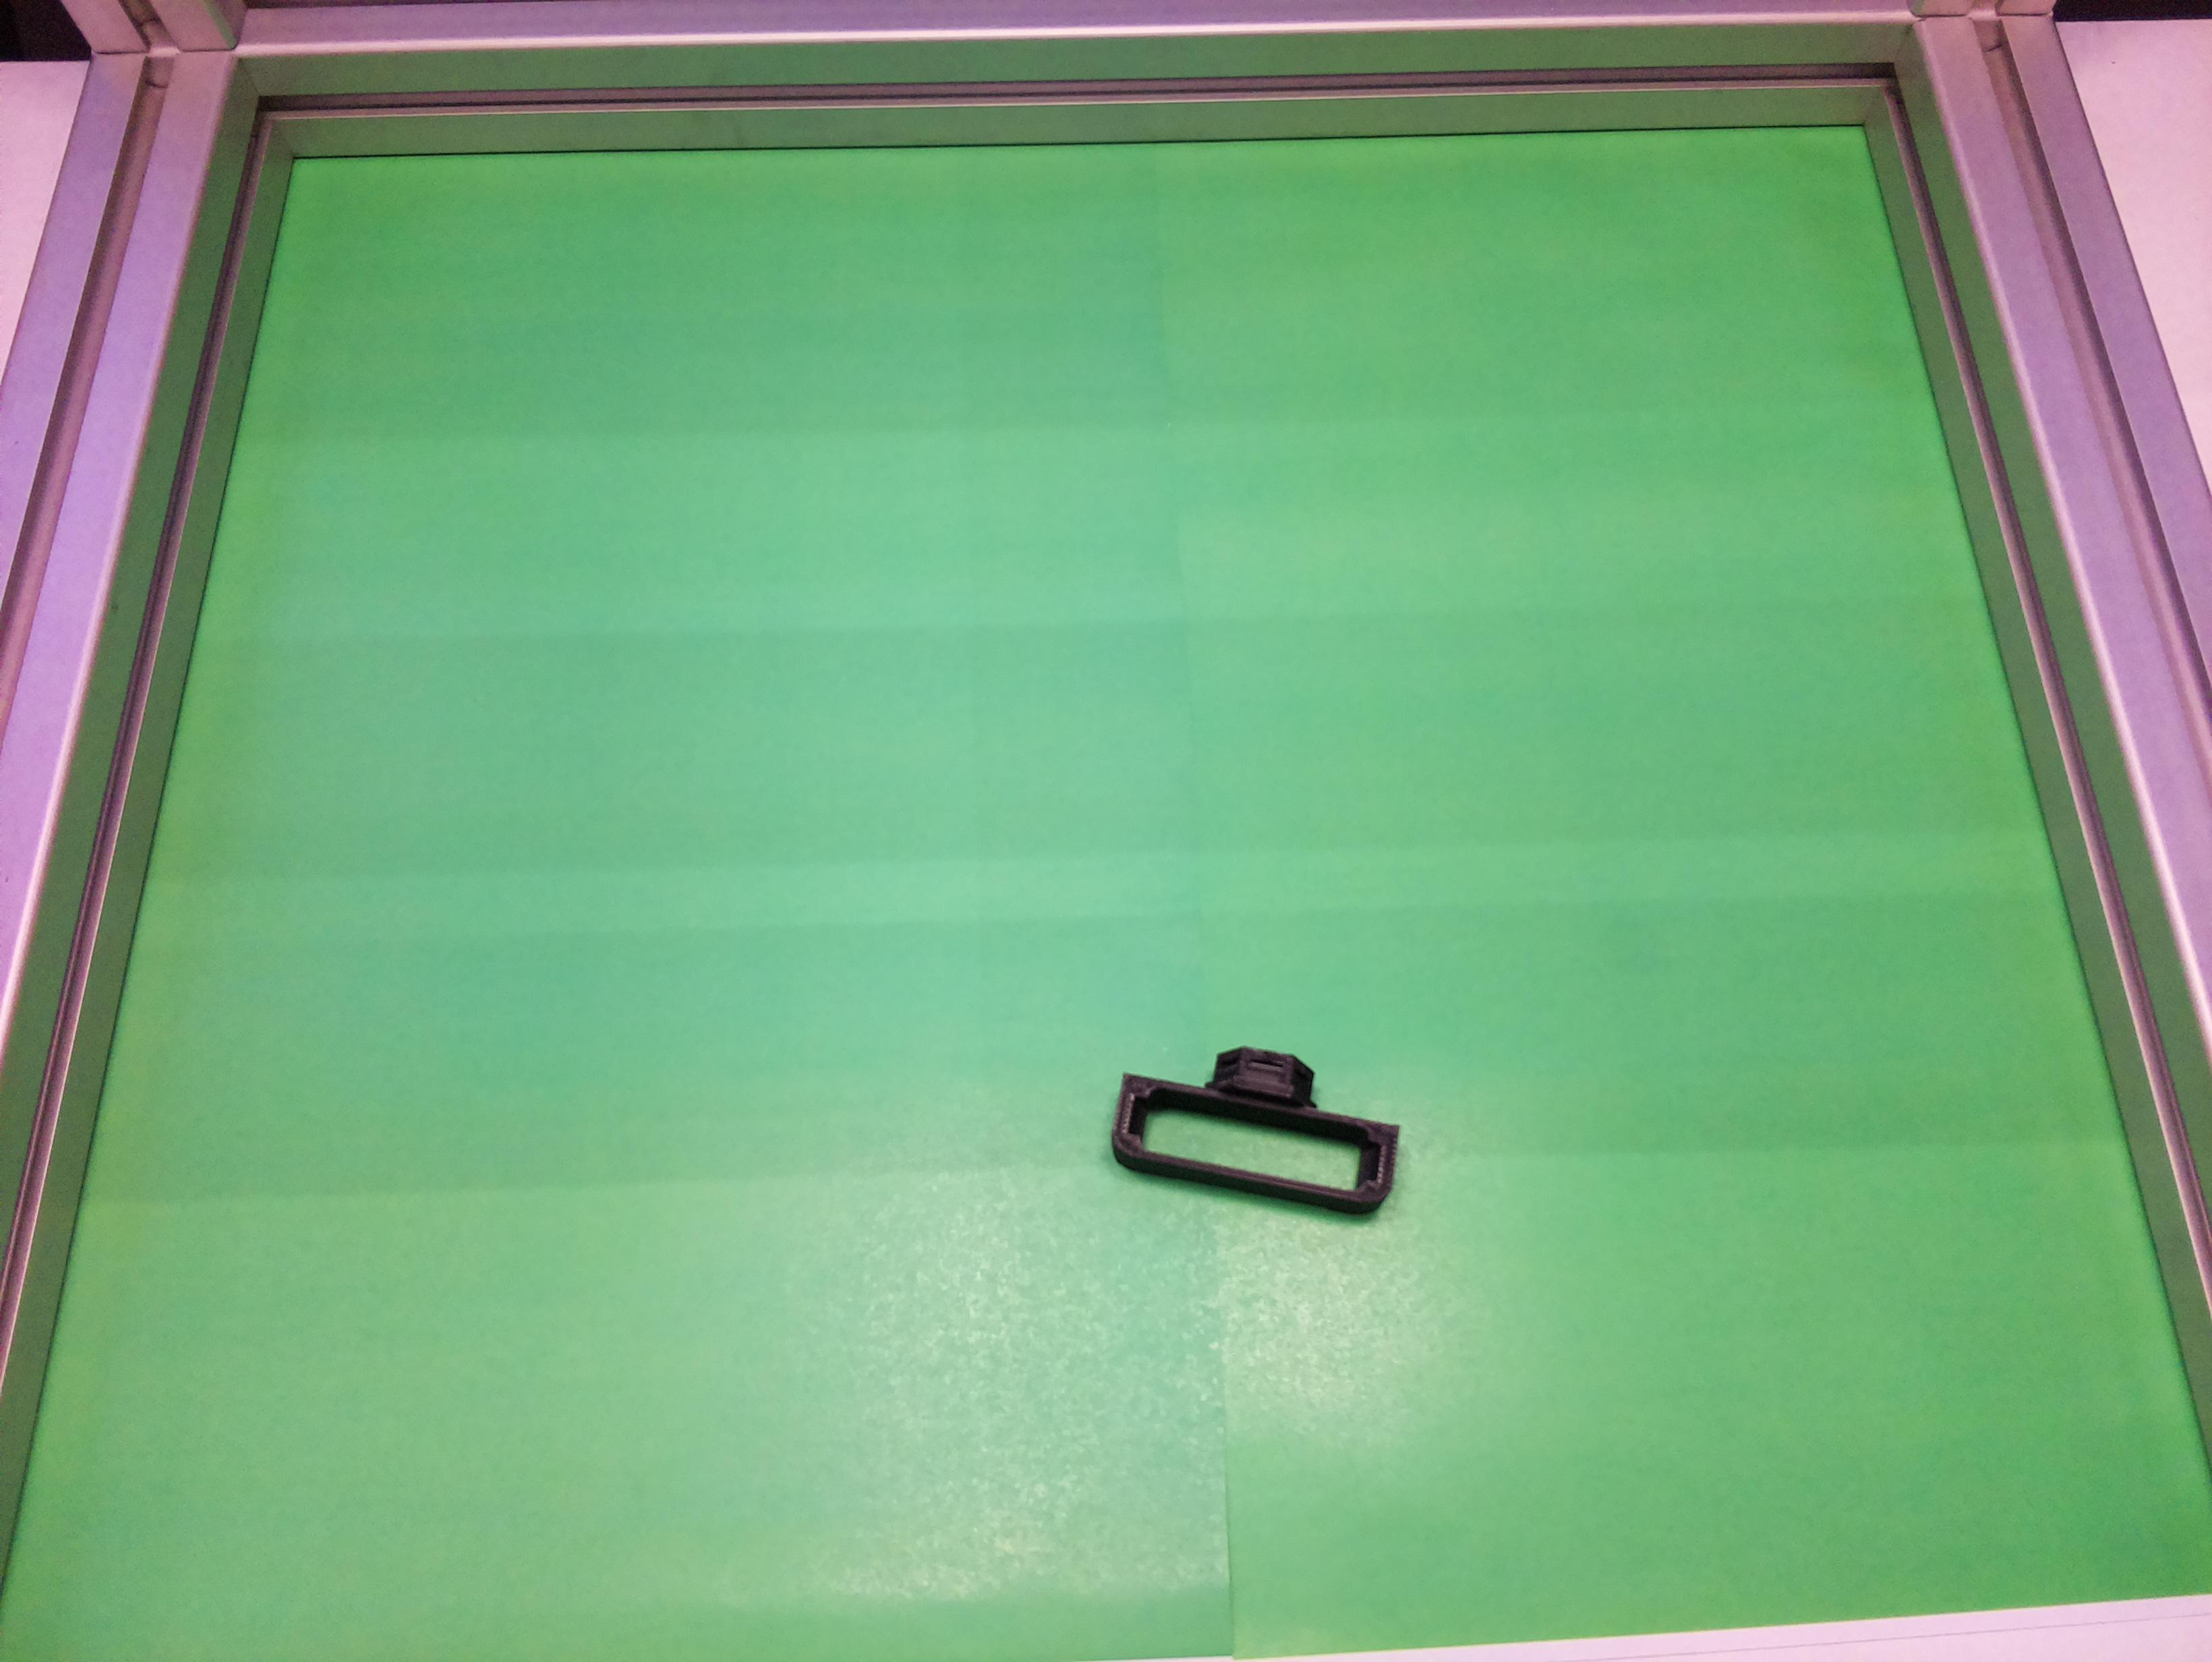cutter_holder: (1103, 1021, 1414, 1226)
